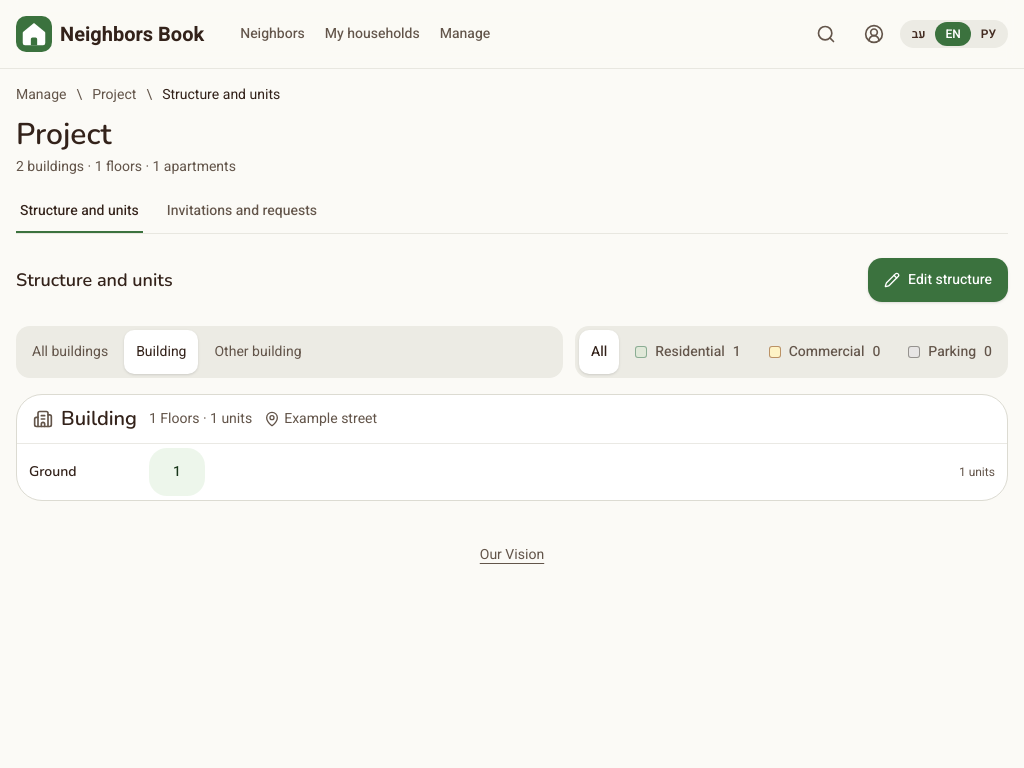
Test: renders the actual shared structure editor inline without spreading the internal React key
Step 1. Click the button "Edit structure" → {"x": 938, "y": 280}, box [868,258,1008,302]
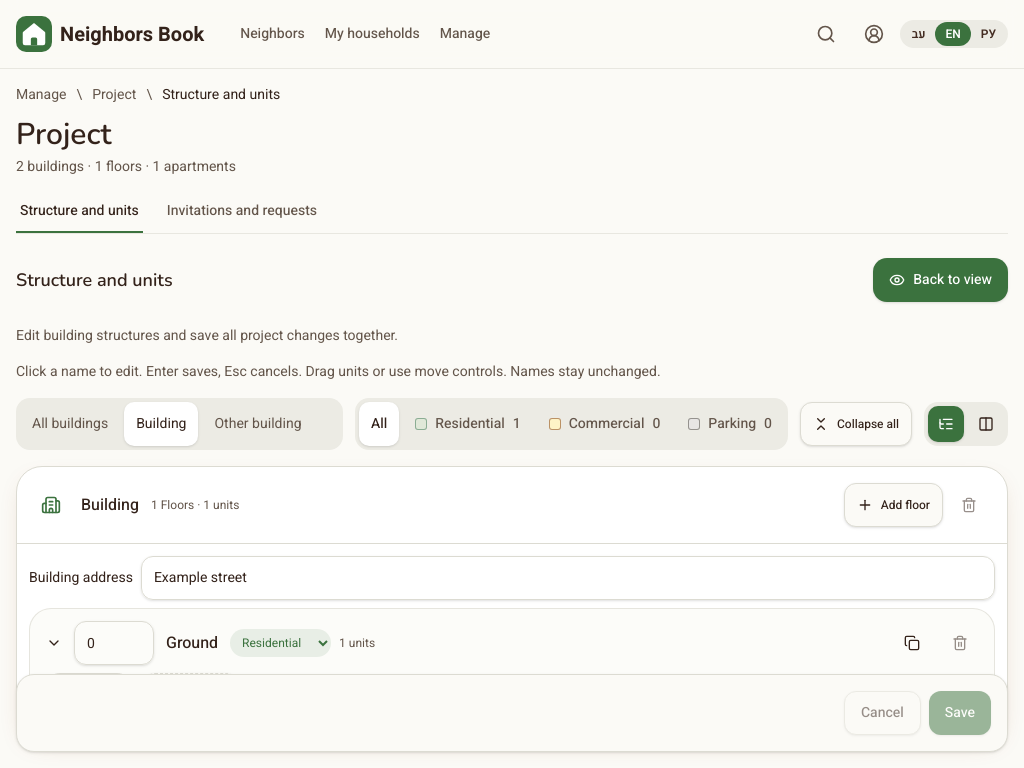
expect the button with aria-label "Add floor Building" is shown: met, box [844,483,943,527]
expect the button "Save" is disabled: met, box [929,691,991,735]
